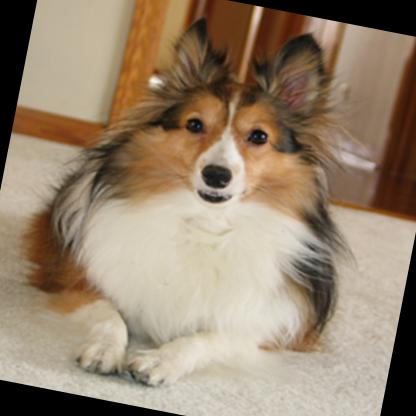Shetland_sheepdog: (0, 0, 390, 416)
